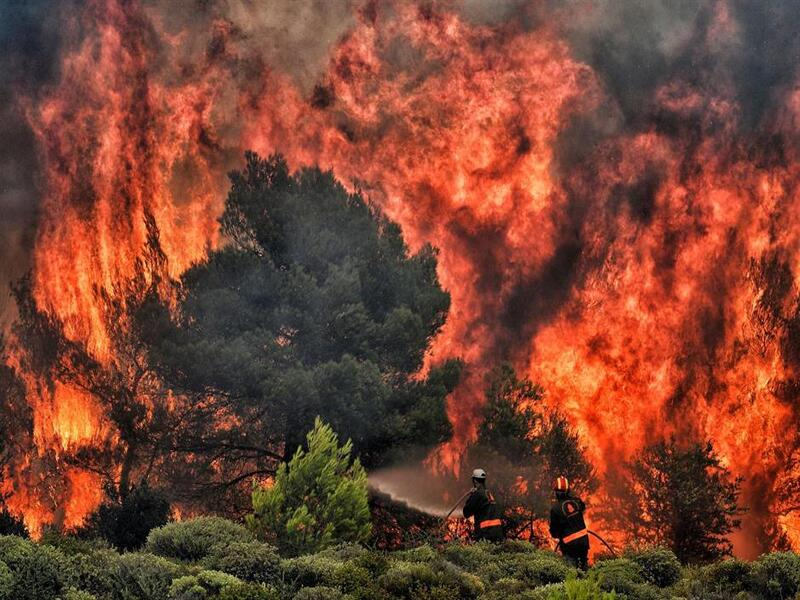fire: (449, 84, 792, 481), (43, 50, 800, 220), (7, 51, 189, 502)
